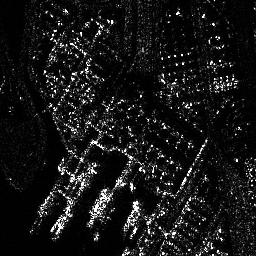ship: (89, 187, 108, 216), (123, 200, 140, 232)
